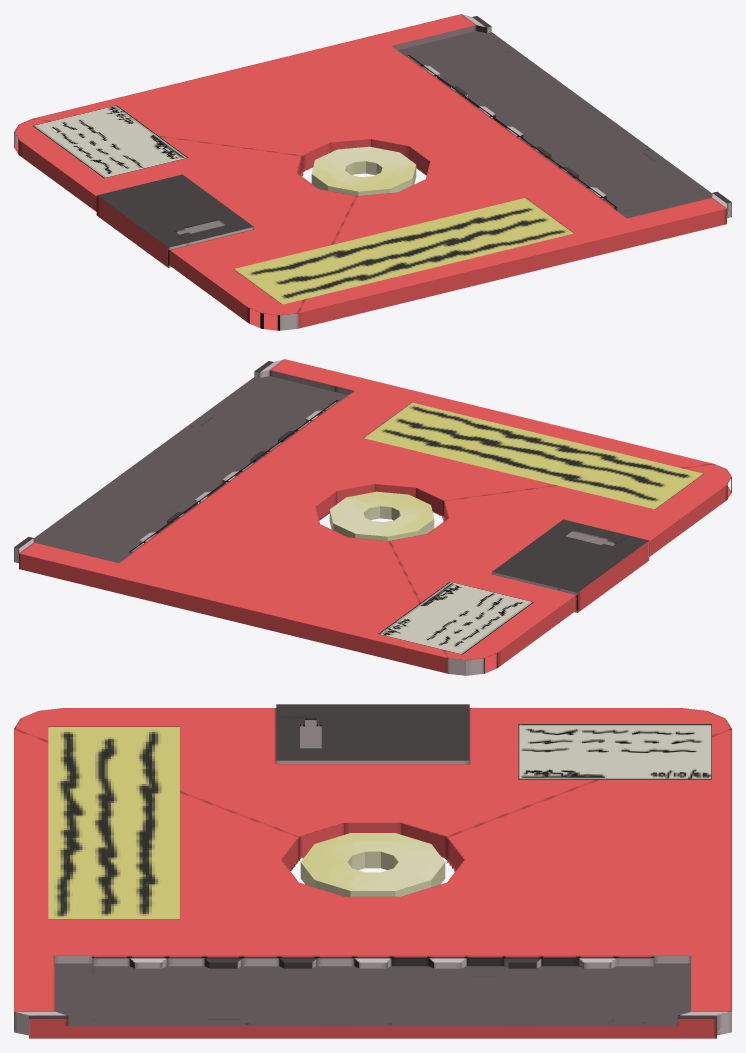
Rendered from floppy disk.fbx.
The picture shows the model from 3 angles, top to bottom: view 1: azimuth 30°, elevation 25°; view 2: azimuth 150°, elevation 25°; view 3: azimuth 270°, elevation 25°; orthographic projection. The views are drawn at different scales.
Visible parts, largest first — view 1: Cube, Plane.001, Plane, Cylinder.001; view 2: Cube, Plane.001, Plane, Cylinder.001; view 3: Cube, Plane.001, Plane, Cylinder.001.
Boxes of the visible parts, bbox=[...] form: Cube: bbox=[14, 14, 731, 330]; Plane.001: bbox=[234, 197, 573, 304]; Plane: bbox=[32, 105, 187, 178]; Cylinder.001: bbox=[311, 146, 416, 195]; Cube: bbox=[14, 359, 731, 675]; Plane.001: bbox=[363, 402, 703, 509]; Plane: bbox=[378, 581, 533, 654]; Cylinder.001: bbox=[329, 491, 434, 540]; Cube: bbox=[14, 704, 731, 1038]; Plane.001: bbox=[48, 726, 179, 919]; Plane: bbox=[518, 724, 711, 779]; Cylinder.001: bbox=[300, 833, 445, 896].
Bounding box in the file's own units: 2.05 × 0.0841 × 2.
Materials: 4 (4 with a texture image).
